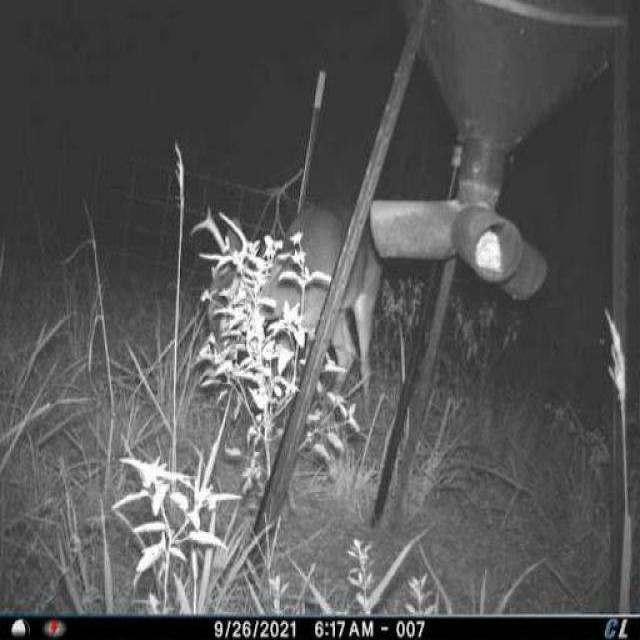deer: (190, 187, 389, 442)
